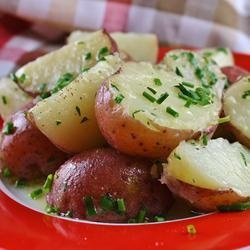boiled potatoes: (97, 70, 224, 144), (37, 57, 122, 148), (48, 151, 161, 217), (17, 28, 117, 88), (165, 140, 249, 209), (8, 109, 52, 180), (225, 76, 250, 134)
